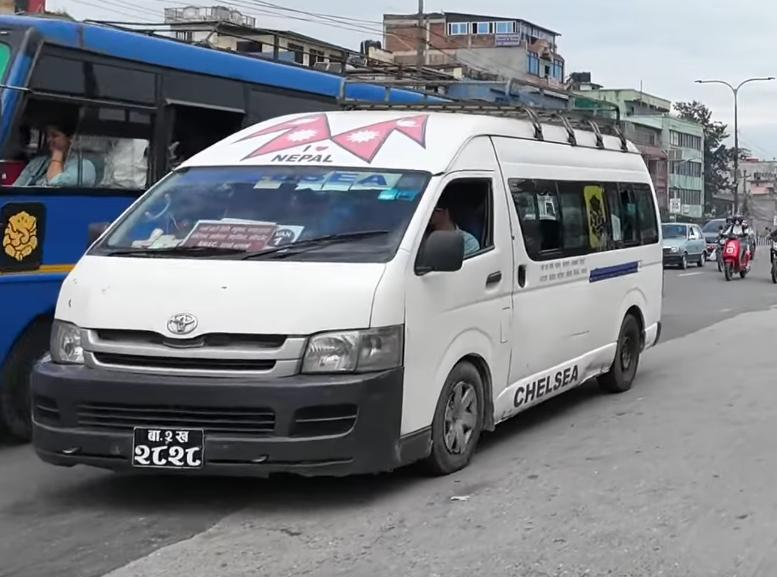car: (657, 218, 712, 271)
micro_bus: (26, 98, 668, 486)
scooter: (717, 230, 753, 281)
